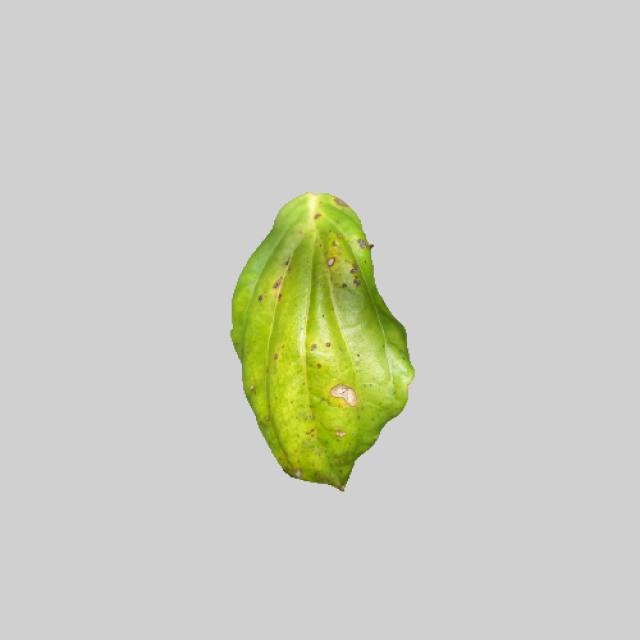yellow-mottle-virus: (228, 189, 413, 489)
